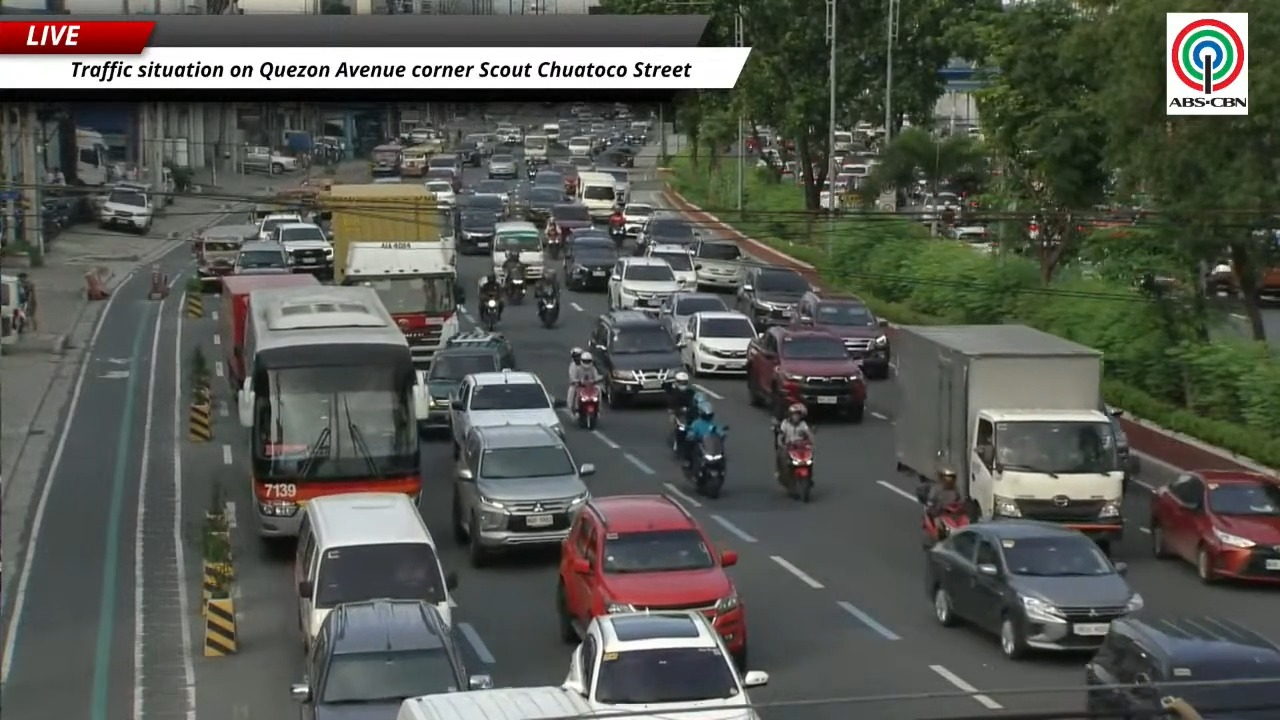bus: (237, 286, 428, 537)
car: (557, 494, 747, 665), (926, 519, 1142, 658), (290, 599, 492, 719), (563, 610, 768, 719), (451, 423, 594, 566), (1085, 616, 1279, 719), (1149, 470, 1279, 582), (746, 327, 866, 422), (450, 369, 564, 457), (590, 310, 681, 407), (793, 292, 890, 378), (419, 342, 503, 432), (678, 311, 755, 376), (736, 265, 812, 330), (607, 257, 681, 313), (193, 224, 257, 285), (272, 222, 333, 278), (658, 291, 729, 339), (1099, 404, 1140, 485), (563, 230, 618, 290), (491, 221, 544, 281), (446, 329, 517, 369), (98, 187, 154, 233), (693, 238, 742, 290), (645, 243, 697, 290), (231, 241, 291, 274), (457, 208, 499, 254), (638, 214, 699, 244), (523, 182, 563, 225), (546, 202, 593, 237), (243, 146, 297, 174), (599, 168, 630, 215), (947, 225, 996, 253), (920, 192, 961, 221), (258, 213, 302, 240), (531, 167, 564, 201), (459, 192, 507, 215), (423, 166, 462, 194), (623, 203, 655, 237), (470, 180, 511, 205), (551, 162, 579, 197), (424, 179, 456, 206), (601, 143, 636, 167), (463, 133, 497, 156), (488, 153, 518, 178), (428, 154, 462, 176), (454, 141, 483, 166), (567, 135, 594, 158), (495, 126, 523, 145), (568, 156, 594, 170)
motorcycle: (686, 426, 727, 498), (922, 501, 970, 548), (782, 440, 813, 502), (575, 383, 600, 430), (670, 412, 687, 461), (537, 297, 559, 328), (504, 273, 526, 304), (480, 297, 500, 331), (544, 233, 562, 259), (610, 222, 626, 248), (526, 163, 537, 180)
truck: (894, 324, 1123, 549), (342, 241, 461, 367), (317, 184, 455, 283), (217, 273, 318, 391)
